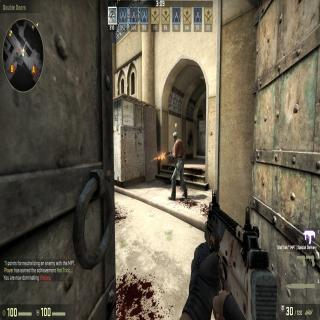T-Body: (168, 131, 186, 200)
T-Head: (172, 130, 179, 143)
